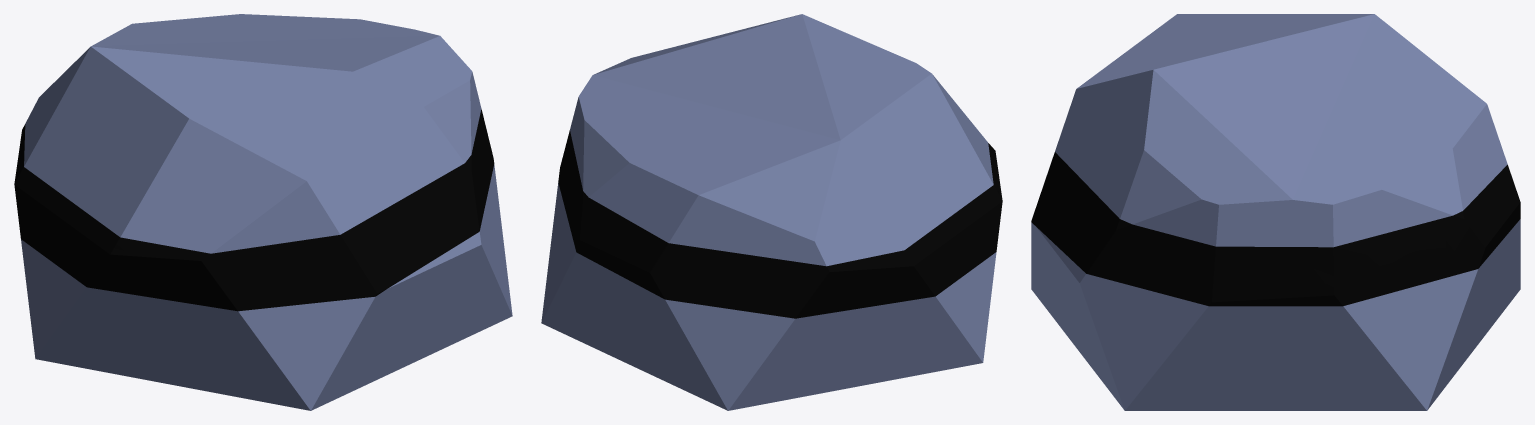
Rendered from Rock Granit Gold 01.fbx.
3 renders of one model, left to right at view 1: azimuth 30°, elevation 25°; view 2: azimuth 150°, elevation 25°; view 3: azimuth 270°, elevation 25°, orthographic. The views are drawn at different scales.
Parts seen in each view (by area): view 1: Rock Granit Gold 01; view 2: Rock Granit Gold 01; view 3: Rock Granit Gold 01.
Part boxes in pixels (bbox=[...]): Rock Granit Gold 01: bbox=[14, 14, 512, 410]; Rock Granit Gold 01: bbox=[541, 14, 1002, 410]; Rock Granit Gold 01: bbox=[1031, 14, 1520, 410].
Size of the model in its own units: 172 by 104 by 170.
